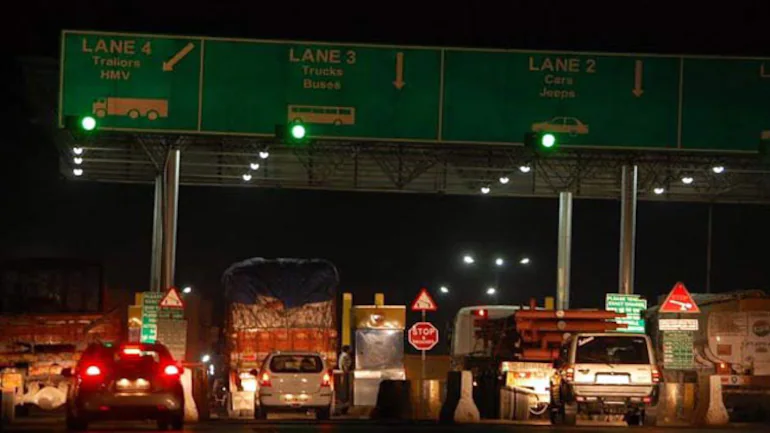car: (557, 333, 667, 418), (74, 342, 188, 421), (255, 351, 334, 422)
truck: (223, 262, 339, 368), (463, 306, 559, 404), (668, 300, 770, 390)
